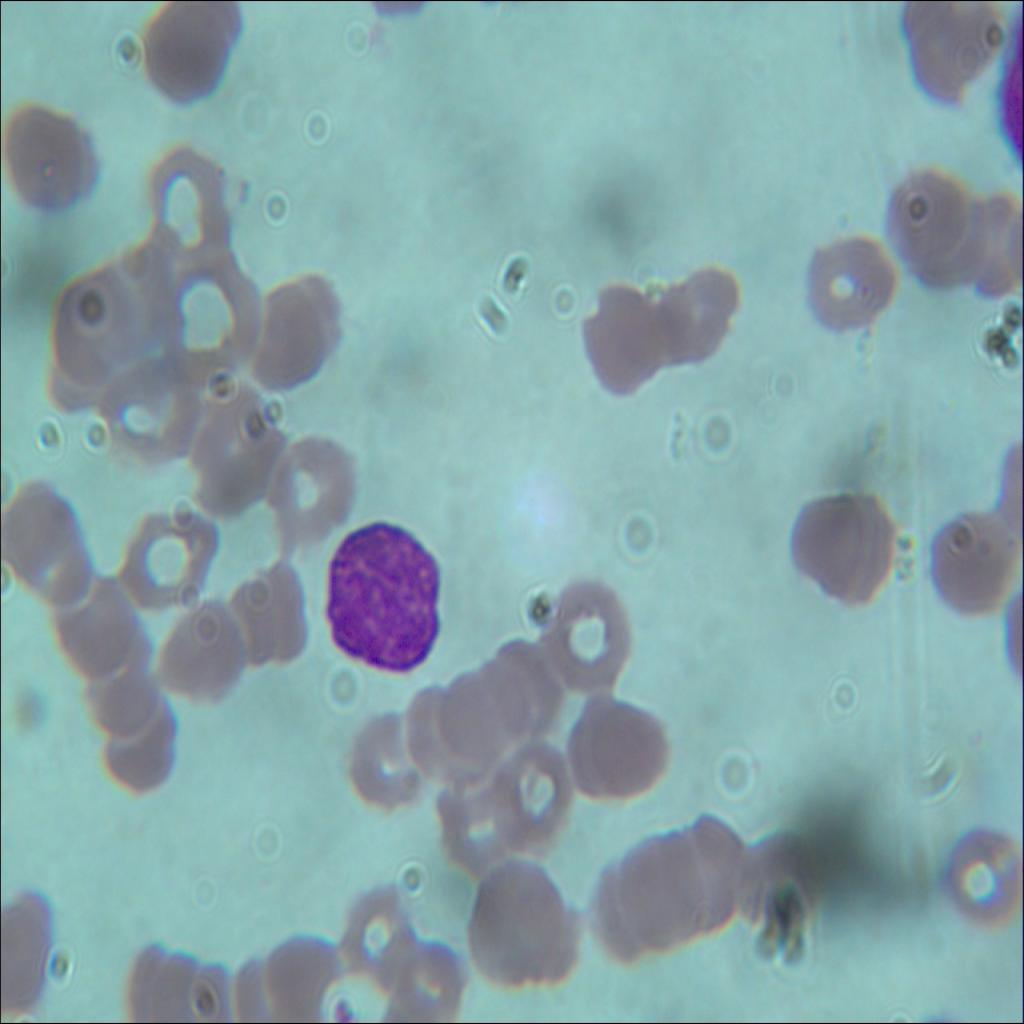Eritrosit: (458, 858, 566, 988), (186, 385, 284, 517), (246, 268, 340, 399), (786, 492, 895, 604), (904, 0, 1002, 121), (4, 482, 95, 612), (0, 104, 103, 218), (569, 688, 670, 801), (98, 364, 208, 465), (48, 562, 142, 679), (51, 269, 149, 381), (728, 820, 823, 934), (576, 278, 668, 394), (804, 227, 895, 340), (159, 266, 255, 372), (884, 168, 974, 278), (258, 437, 353, 541), (126, 505, 220, 610), (618, 831, 700, 951), (938, 501, 1022, 618), (541, 580, 629, 691), (678, 807, 750, 942), (648, 265, 738, 371), (140, 0, 230, 105), (149, 141, 228, 260), (936, 818, 1023, 925), (486, 627, 560, 751), (941, 192, 1023, 298), (446, 664, 524, 770), (88, 630, 161, 740), (380, 930, 462, 1023), (402, 690, 482, 785), (341, 875, 413, 980), (349, 711, 421, 814), (501, 741, 570, 845), (261, 931, 338, 1023), (442, 776, 516, 870), (106, 710, 184, 799), (0, 904, 48, 1016)
Limfoblast: (326, 512, 446, 685)
